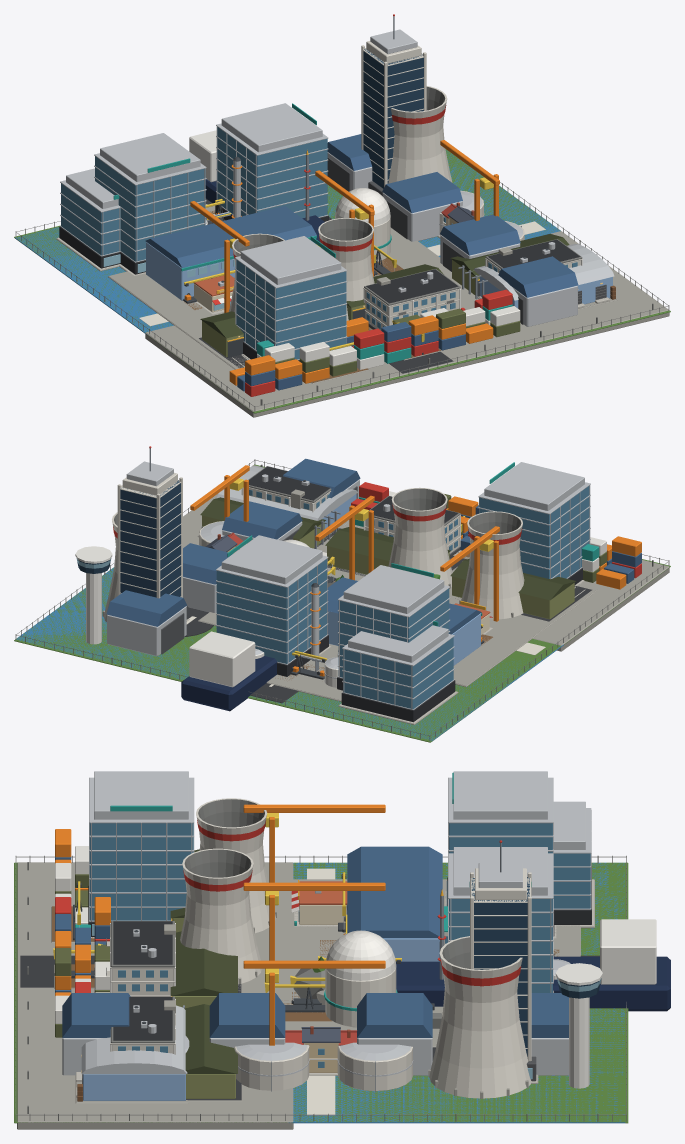
Rendered from FF_World.fbx.
3 renders of one model, top to bottom at view 1: azimuth 30°, elevation 25°; view 2: azimuth 150°, elevation 25°; view 3: azimuth 270°, elevation 25°, orthographic. The views are drawn at different scales.
Visible parts, largest first — view 1: site_city__Body, site_port__Body, site_nuclear__Body, site_airport__Body, site_base__Body, site_oilField__Body, site_city__Lights; view 2: site_city__Body, site_nuclear__Body, site_port__Body, site_airport__Body, site_base__Body, site_oilField__Body, site_city__Lights; view 3: site_nuclear__Body, site_city__Body, site_port__Body, site_airport__Body, site_oilField__Body, site_base__Body, site_city__Lights, prop_rock_3__Body.
Part boxes in pixels (left/top/right/bottom): site_city__Body: left=94, top=16, right=582, bottom=361; site_port__Body: left=15, top=130, right=669, bottom=417; site_nuclear__Body: left=56, top=86, right=653, bottom=405; site_airport__Body: left=14, top=134, right=670, bottom=413; site_base__Body: left=15, top=182, right=669, bottom=411; site_oilField__Body: left=183, top=155, right=524, bottom=383; site_city__Lights: left=137, top=14, right=577, bottom=329; site_city__Body: left=117, top=448, right=590, bottom=690; site_nuclear__Body: left=102, top=464, right=653, bottom=724; site_port__Body: left=16, top=465, right=669, bottom=741; site_airport__Body: left=14, top=458, right=670, bottom=742; site_base__Body: left=15, top=459, right=669, bottom=740; site_oilField__Body: left=199, top=516, right=492, bottom=701; site_city__Lights: left=149, top=446, right=457, bottom=550; site_nuclear__Body: left=27, top=798, right=594, bottom=1113; site_city__Body: left=88, top=771, right=556, bottom=1115; site_port__Body: left=17, top=804, right=670, bottom=1129; site_airport__Body: left=14, top=862, right=628, bottom=1123; site_oilField__Body: left=51, top=872, right=580, bottom=1092; site_base__Body: left=15, top=849, right=626, bottom=1121; site_city__Lights: left=92, top=840, right=532, bottom=1079; prop_rock_3__Body: left=293, top=968, right=325, bottom=1004.
Size of the model in its own units: 130 by 56.31 by 139.
1 material, 1 textured.
